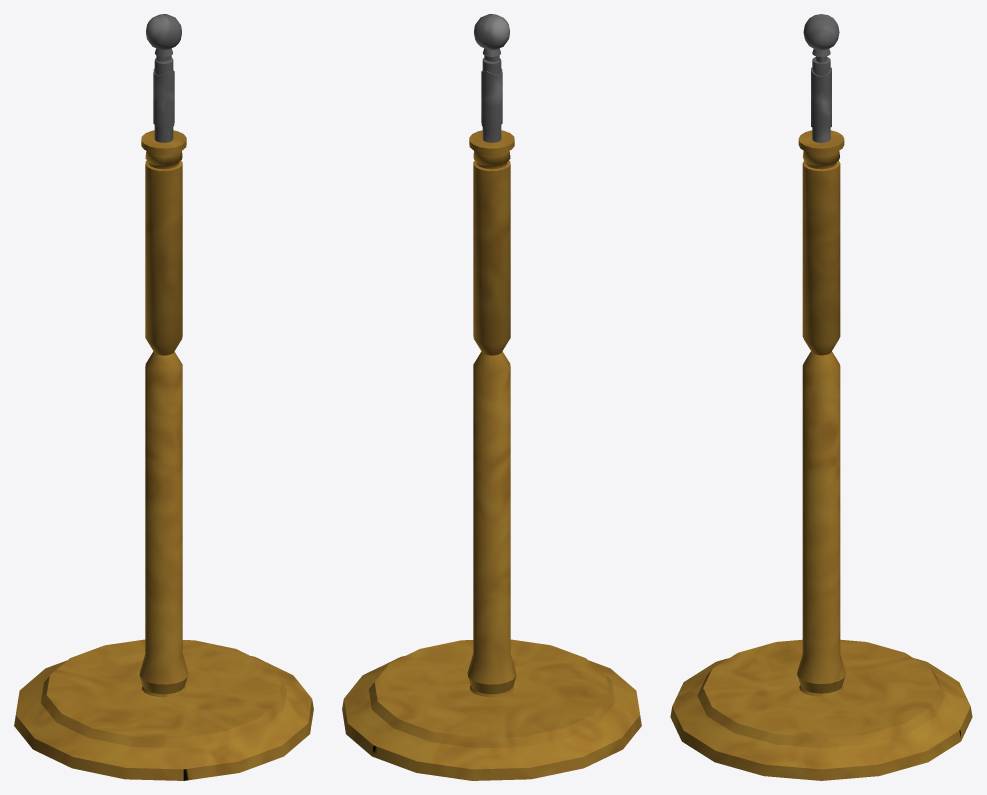
Rendered from ParteInferior.glb.
3 views of the same model, side by side, from view 1: azimuth 30°, elevation 25°; view 2: azimuth 150°, elevation 25°; view 3: azimuth 270°, elevation 25° (orthographic).
Visible parts, largest first — view 1: Object_4; view 2: Object_4; view 3: Object_4.
Boxes of the visible parts, x1,y1,x2,y2 form: Object_4: (14,14,313,780); Object_4: (342,14,641,780); Object_4: (670,14,972,780).
Bounding box in the file's own units: 0.4735 × 1.21 × 0.4735.
1 material, 1 textured.
